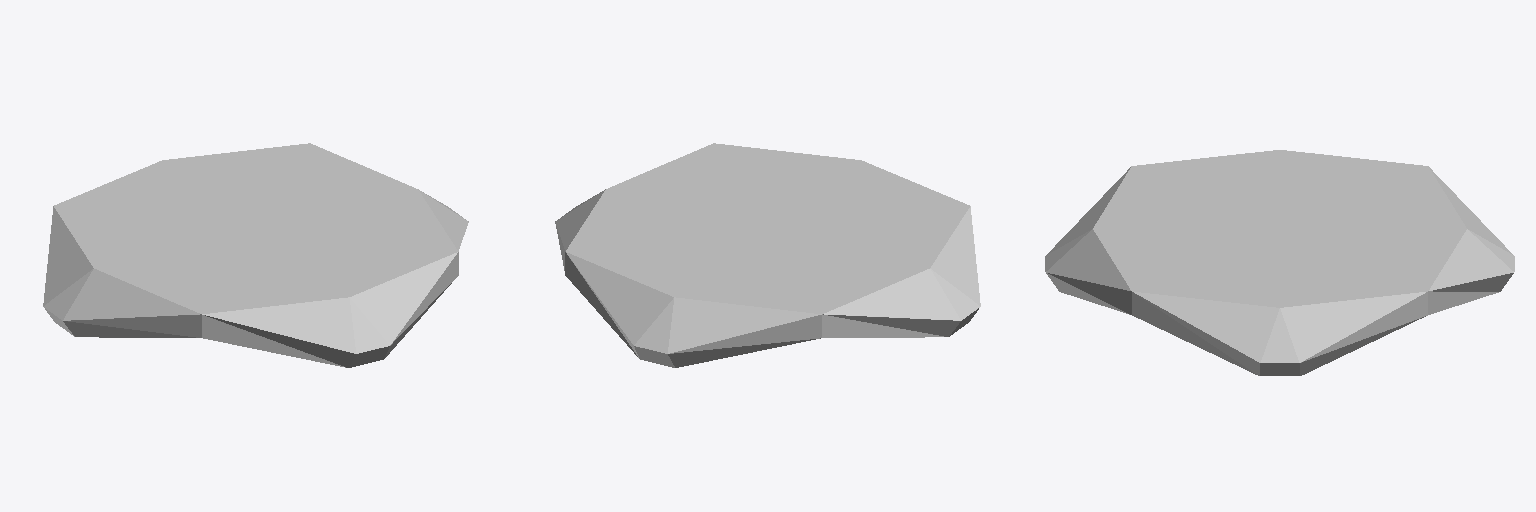
File: food_ingredient_cheese_slice.obj
3 views of the same model, side by side, from view 1: azimuth 30°, elevation 25°; view 2: azimuth 150°, elevation 25°; view 3: azimuth 270°, elevation 25° (orthographic).
Parts seen in each view (by area): view 1: food_ingredient_cheese_slice_Cube.010; view 2: food_ingredient_cheese_slice_Cube.010; view 3: food_ingredient_cheese_slice_Cube.010.
Boxes of the visible parts, x1,y1,x2,y2 form: food_ingredient_cheese_slice_Cube.010: [43, 143, 468, 367]; food_ingredient_cheese_slice_Cube.010: [555, 143, 980, 367]; food_ingredient_cheese_slice_Cube.010: [1045, 150, 1514, 375].
Bounding box in the file's own units: 0.8243 × 0.1055 × 0.8243.